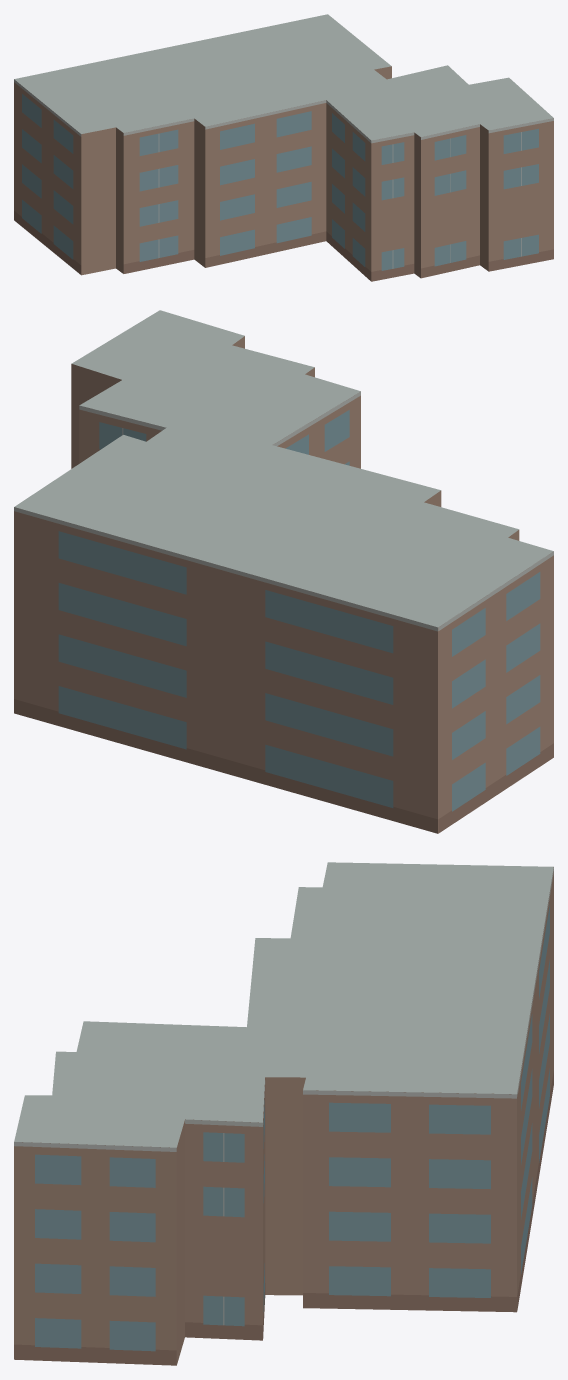
The model's file is survey-upis-32769140.glb.
3 views of the same model, one above another, from view 1: azimuth 30°, elevation 25°; view 2: azimuth 150°, elevation 25°; view 3: azimuth 270°, elevation 25° (orthographic). The views are drawn at different scales.
Parts seen in each view (by area): view 1: survey-upis-32769140.tmp; view 2: survey-upis-32769140.tmp; view 3: survey-upis-32769140.tmp.
Boxes of the visible parts, left/top/right/bottom form: survey-upis-32769140.tmp: left=14, top=14, right=553, bottom=281; survey-upis-32769140.tmp: left=14, top=310, right=553, bottom=833; survey-upis-32769140.tmp: left=14, top=862, right=553, bottom=1365.
Bounding box in the file's own units: 34.28 × 12.2 × 27.4.
